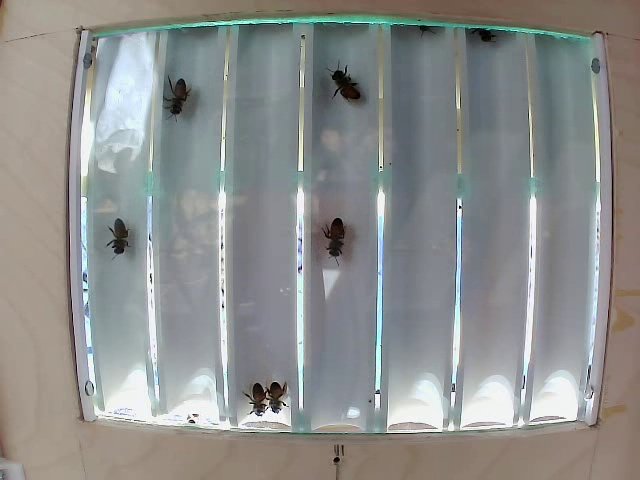bee: (330, 61, 377, 119), (318, 207, 358, 274), (157, 72, 194, 133), (92, 205, 132, 260), (233, 380, 267, 422), (260, 378, 289, 420)
